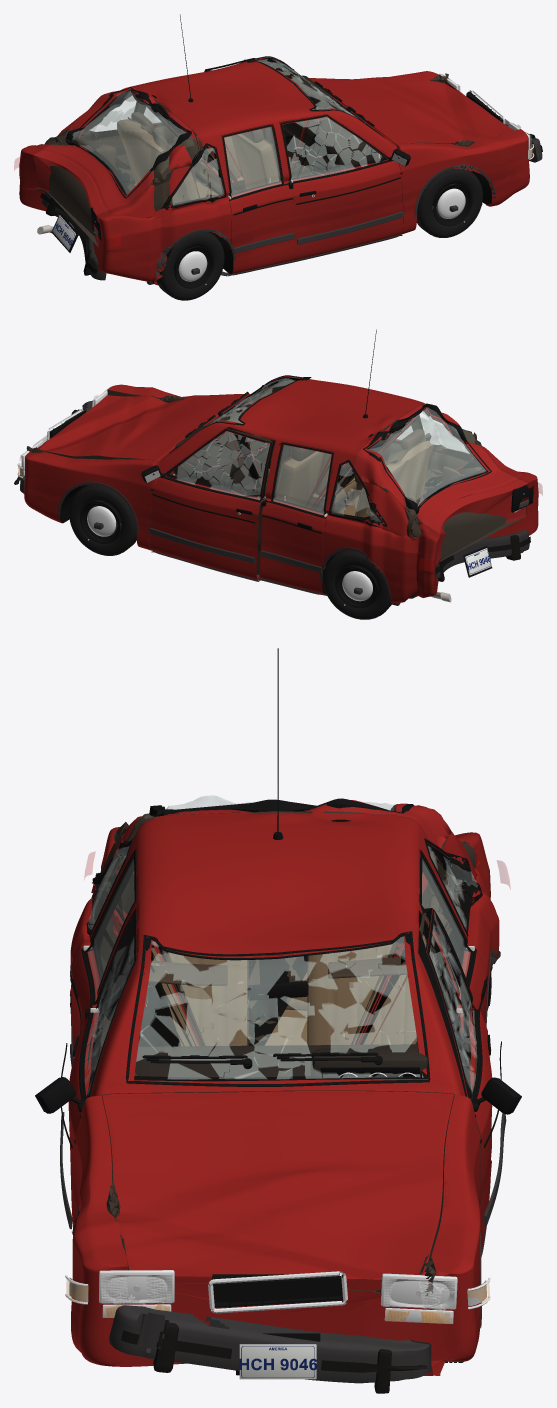
The model's file is hatchback85_rear_d1.glb.
3 renders of one model, top to bottom at view 1: azimuth 30°, elevation 25°; view 2: azimuth 150°, elevation 25°; view 3: azimuth 270°, elevation 25°, orthographic. The views are drawn at different scales.
Parts seen in each view (by area): view 1: Body, Interior, Hatch, Hood, Door_FR, Glass_Hatch, Door_RR, Wheel_FR_mesh, Glass, Wheel_RR_mesh, Glass_FR, Glass_RR (+7 smaller); view 2: Body, Interior, Door_FL, Hatch, Hood, Glass_Hatch, Door_RL, Glass_FL, Wheel_FL_mesh, Wheel_RL_mesh, Glass_RL, Glass (+6 smaller); view 3: Body, Hood, Glass, Interior, Ends, Bumper_F, Door_FL, Trim, Door_FR, Trim_FL, Hatch, Glass_FL (+10 smaller).
Boxes of the visible parts, <box> form: Body: <box>19,57,529,285</box>; Interior: <box>95,75,378,203</box>; Hatch: <box>33,86,199,247</box>; Hood: <box>311,78,514,145</box>; Door_FR: <box>279,114,403,259</box>; Glass_Hatch: <box>65,87,191,198</box>; Door_RR: <box>221,123,295,274</box>; Wheel_FR_mesh: <box>416,168,482,237</box>; Glass: <box>90,56,384,209</box>; Wheel_RR_mesh: <box>158,231,224,300</box>; Glass_FR: <box>280,114,387,182</box>; Glass_RR: <box>222,127,283,197</box>; Body: <box>24,376,538,603</box>; Interior: <box>174,383,464,517</box>; Door_FL: <box>150,427,275,580</box>; Hatch: <box>354,403,528,567</box>; Hood: <box>37,395,246,461</box>; Glass_Hatch: <box>363,403,491,513</box>; Door_RL: <box>259,441,334,594</box>; Glass_FL: <box>166,428,272,501</box>; Wheel_FL_mesh: <box>69,484,136,555</box>; Wheel_RL_mesh: <box>323,550,391,619</box>; Glass_RL: <box>271,445,333,515</box>; Glass: <box>169,375,469,527</box>; Body: <box>70,811,499,1375</box>; Hood: <box>101,1091,454,1290</box>; Glass: <box>88,842,482,1086</box>; Interior: <box>135,875,445,1077</box>; Ends: <box>65,1270,490,1379</box>; Bumper_F: <box>109,1305,431,1393</box>; Door_FL: <box>418,908,492,1250</box>; Trim: <box>70,648,500,1327</box>; Door_FR: <box>68,907,137,1228</box>; Trim_FL: <box>427,909,521,1256</box>; Hatch: <box>120,799,451,862</box>; Glass_FL: <box>425,909,476,1091</box>.
Size of the model in its own units: 4.11 by 2.14 by 1.93.
Materials: 33 (5 with a texture image).
